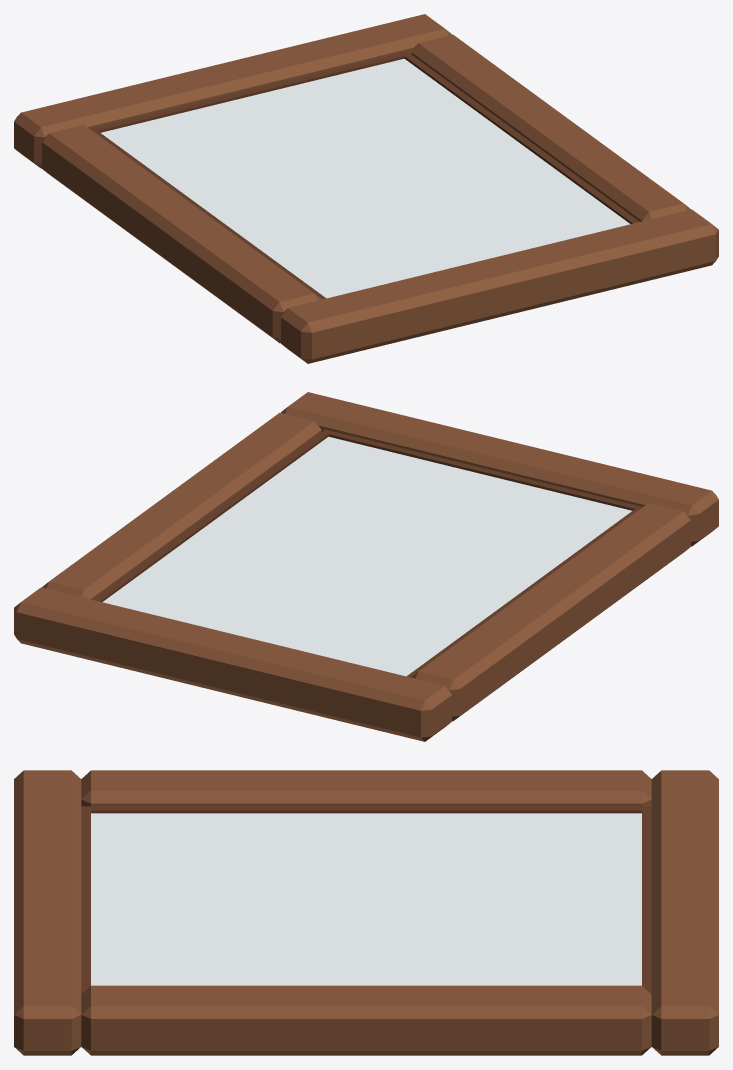
Rendered from Item_PortaRetrato.fbx.
3 renders of one model, top to bottom at view 1: azimuth 30°, elevation 25°; view 2: azimuth 150°, elevation 25°; view 3: azimuth 270°, elevation 25°, orthographic. The views are drawn at different scales.
Visible parts, largest first — view 1: Item_PortaRetrato; view 2: Item_PortaRetrato; view 3: Item_PortaRetrato.
Boxes of the visible parts, x1=… form: Item_PortaRetrato: x1=14, y1=14, x2=718, y2=363; Item_PortaRetrato: x1=14, y1=392, x2=718, y2=741; Item_PortaRetrato: x1=14, y1=770, x2=718, y2=1055.
Bounding box in the file's own units: 0.18 × 0.02 × 0.22.
Materials: 2 (2 with a texture image).
